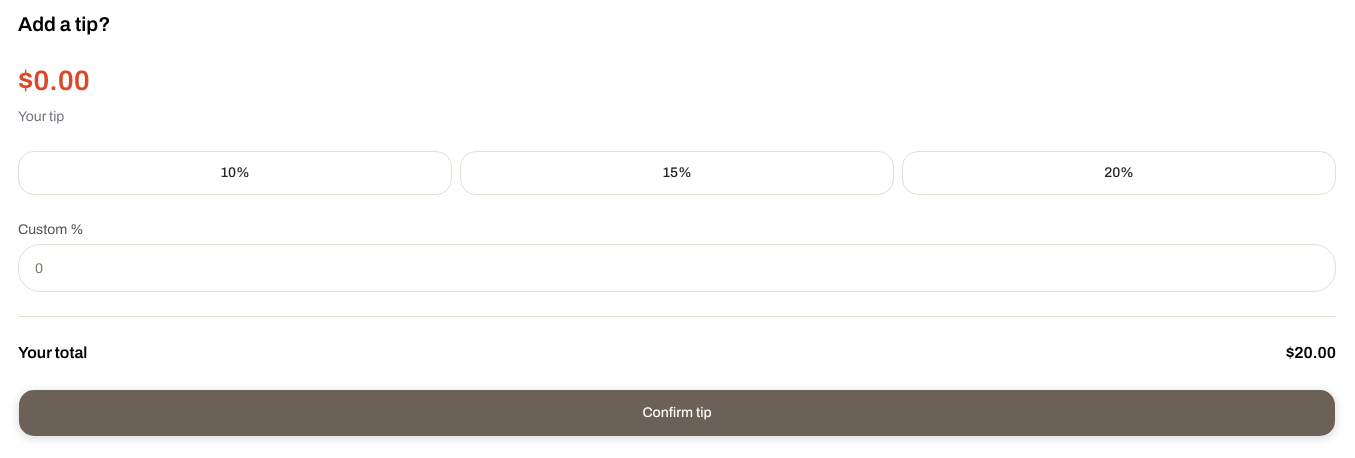
it: TipScreen › Test 2 (preset 15% on $20 subtotal sets tip to $3.00)
The width and height of the screenshot is (1355, 458).
Click the button named "Set tip to 15%": {"x": 677, "y": 173} [460,151,894,195]
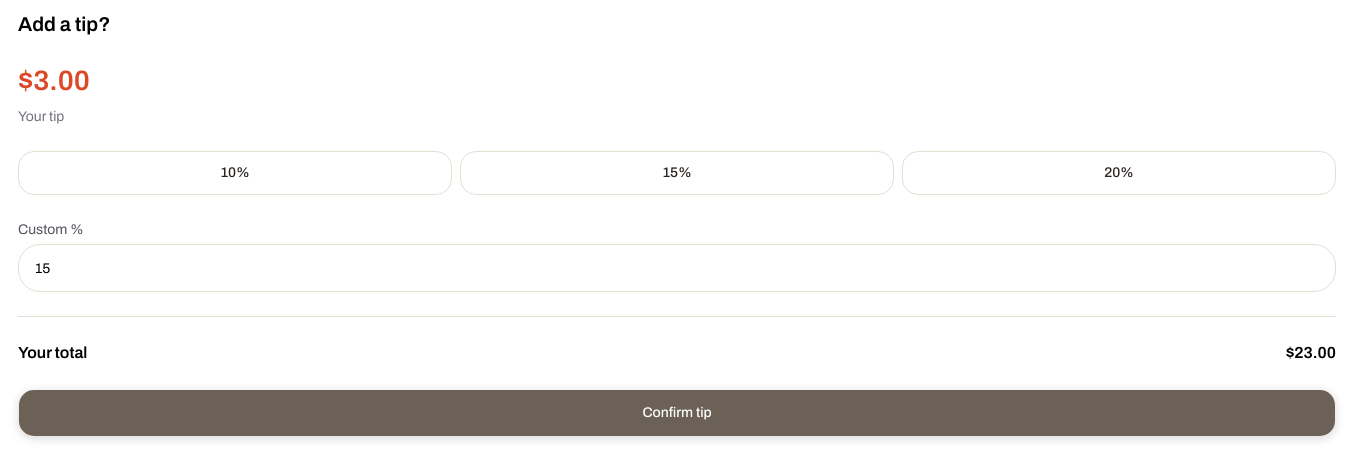
expect the text with test id "tip-amount-display" reads "$3.00": met, box [18,65,90,96]
